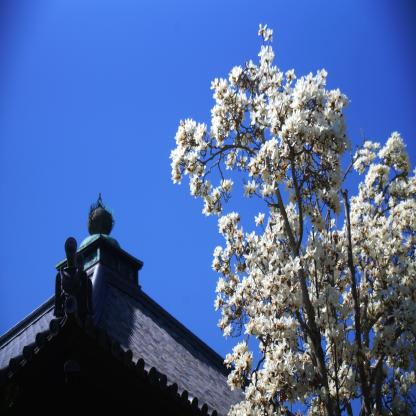Mokuren: (168, 21, 416, 415)
